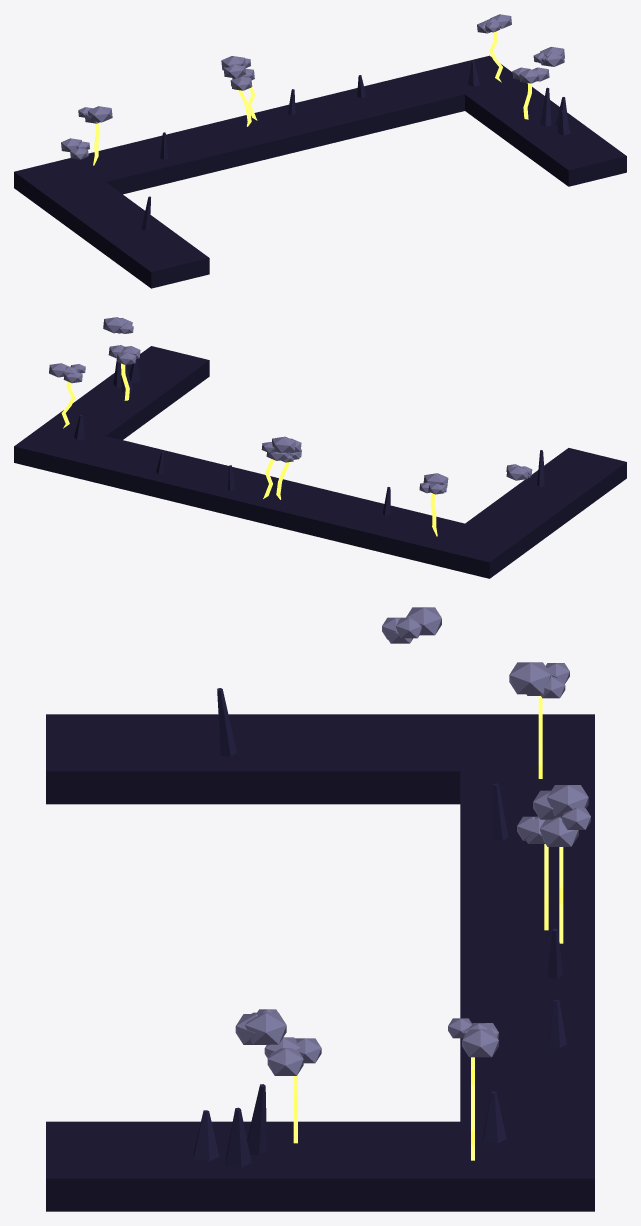
The model's file is thunder.glb.
3 renders of one model, top to bottom at view 1: azimuth 30°, elevation 25°; view 2: azimuth 150°, elevation 25°; view 3: azimuth 270°, elevation 25°, orthographic. The views are drawn at different scales.
Visible parts, largest first — view 1: field_thunder; view 2: field_thunder; view 3: field_thunder.
Boxes of the visible parts, <box> form: field_thunder: <box>14,14,626,288</box>; field_thunder: <box>14,317,626,578</box>; field_thunder: <box>46,607,594,1211</box>.
Bounding box in the file's own units: 10.6 × 1.91 × 5.3.
